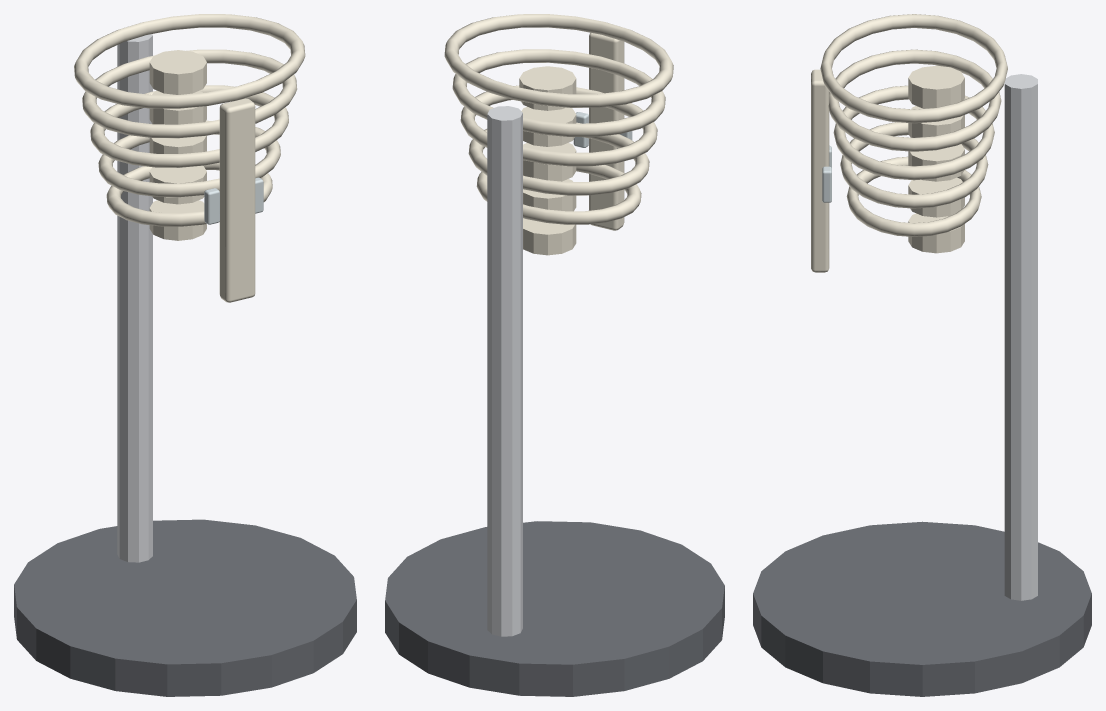
The model's file is human-anatomy-and-education-kit-ribcage-f0acd62c__38942.glb.
3 views of the same model, side by side, from view 1: azimuth 30°, elevation 25°; view 2: azimuth 150°, elevation 25°; view 3: azimuth 270°, elevation 25° (orthographic).
Parts seen in each view (by area): view 1: ribcage; view 2: ribcage; view 3: ribcage.
Boxes of the visible parts, box(x1,y1,x2,y2) form: ribcage: box(14, 14, 356, 696); ribcage: box(385, 14, 724, 696); ribcage: box(753, 14, 1091, 696).
Size of the model in its own units: 0.48 by 0.8805 by 0.48.
